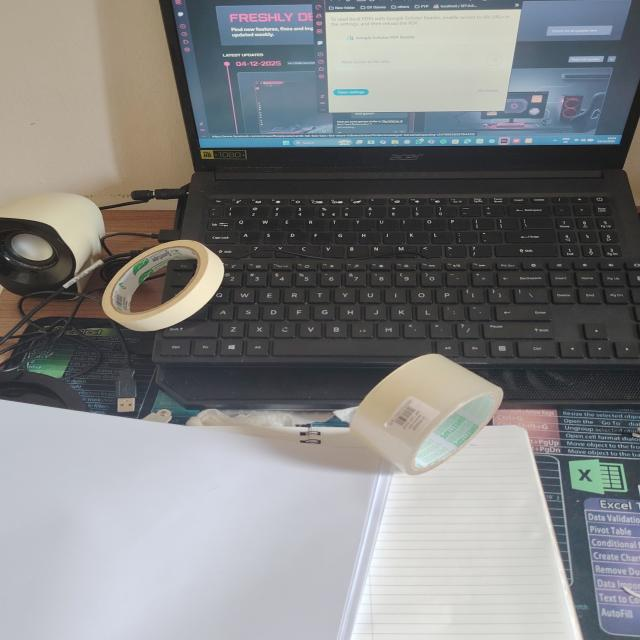tape: (350, 354, 503, 475), (102, 240, 224, 331)
